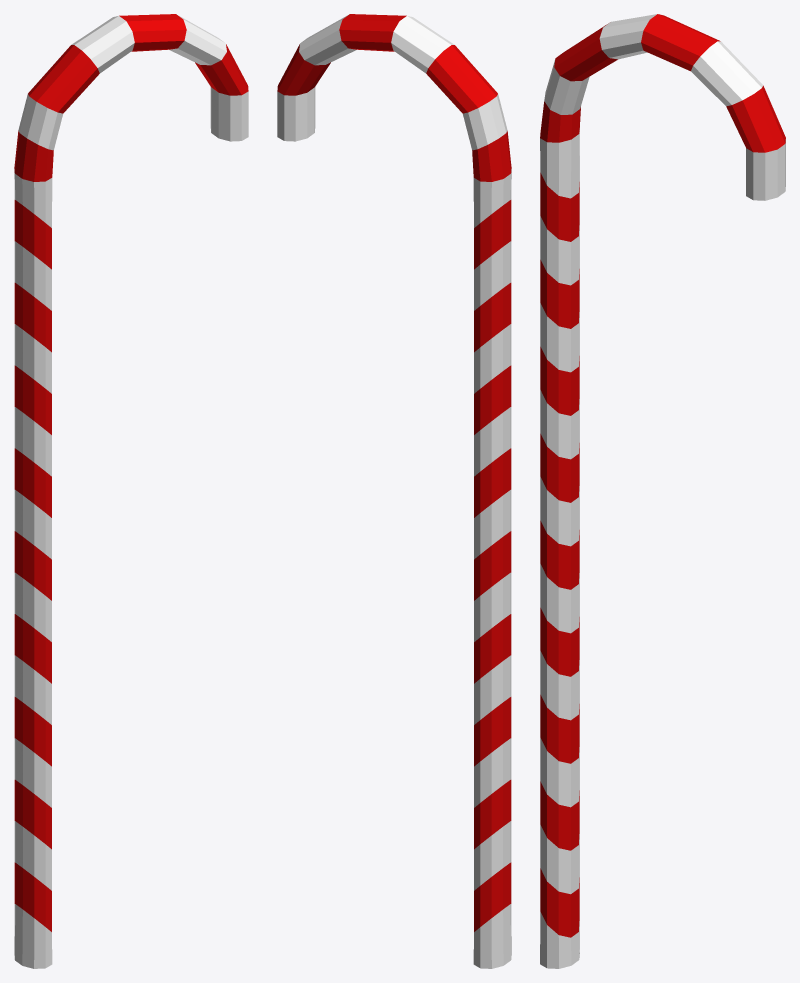
File: candy_cane (1).fbx
3 views of the same model, side by side, from view 1: azimuth 30°, elevation 25°; view 2: azimuth 150°, elevation 25°; view 3: azimuth 330°, elevation 25° (orthographic). The views are drawn at different scales.
Visible parts, largest first — view 1: Cylinder; view 2: Cylinder; view 3: Cylinder.
Boxes of the visible parts, left/top/right/bottom form: Cylinder: left=14, top=14, right=248, bottom=968; Cylinder: left=277, top=14, right=511, bottom=968; Cylinder: left=540, top=14, right=785, bottom=968.
Bounding box in the file's own units: 538 × 2094 × 101.
